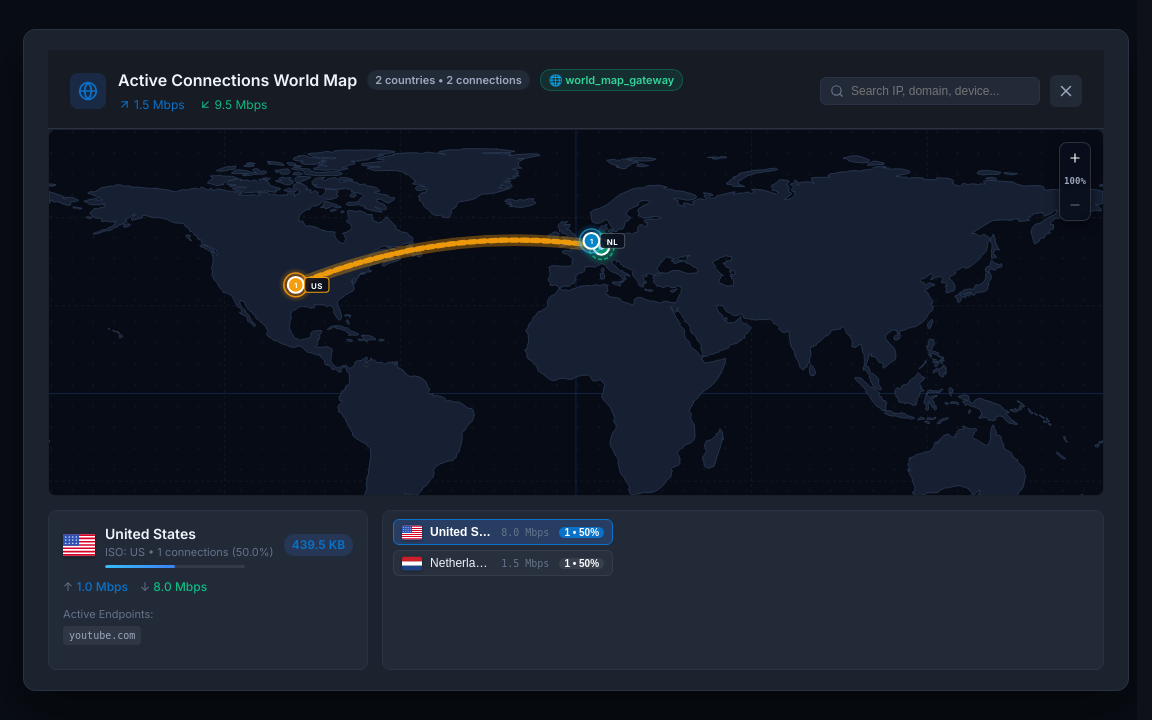
Test: WorldConnectionsModal › supports interactive zoom controls
Expected: the text "100%" is shown, [1064,176,1086,186]
Click the button titled "Zoom in" at (1075, 158), box [1064,147,1086,169]
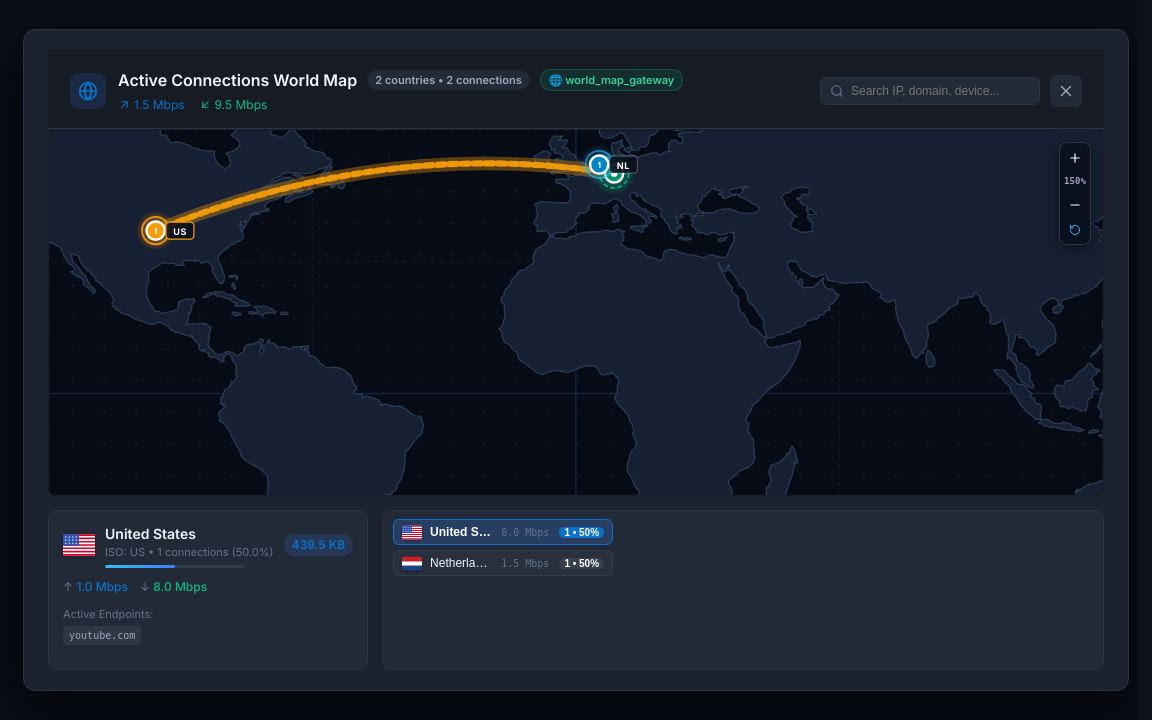
Expected: the text "150%" is shown, [1064,176,1086,186]
Expected: the button titled "Reset view" is shown
Click the button titled "Reset view" at (1075, 230), box [1064,220,1086,240]
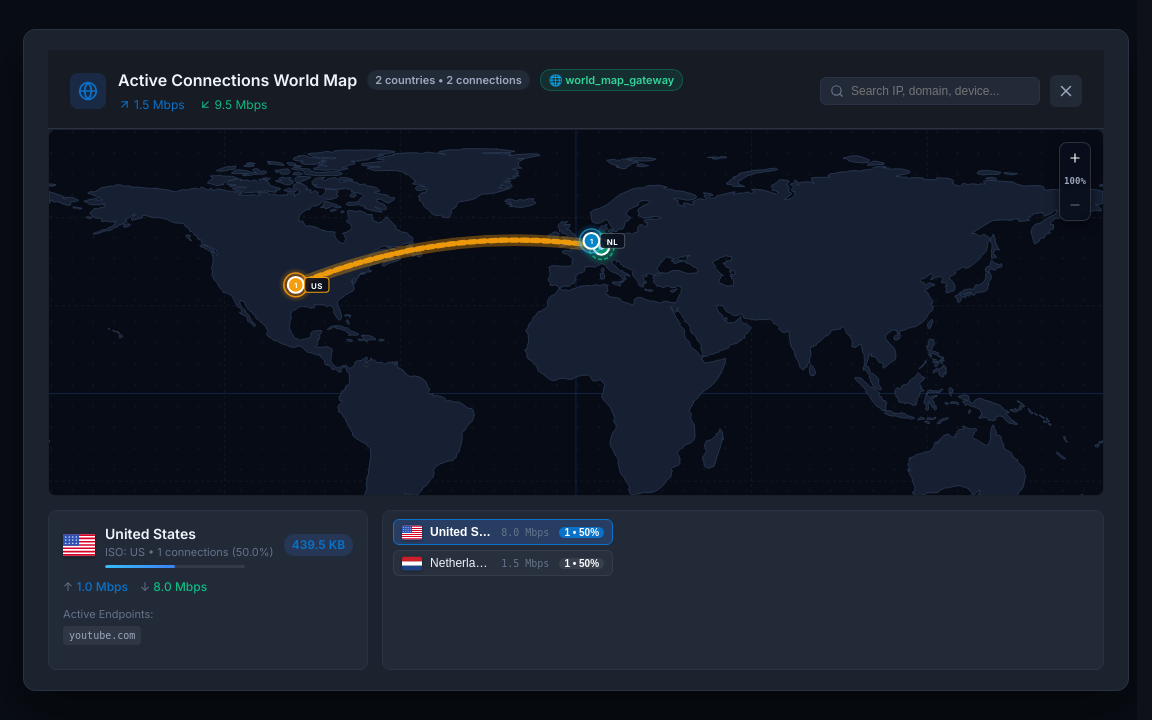
Expected: the text "100%" is shown, [1064,176,1086,186]
